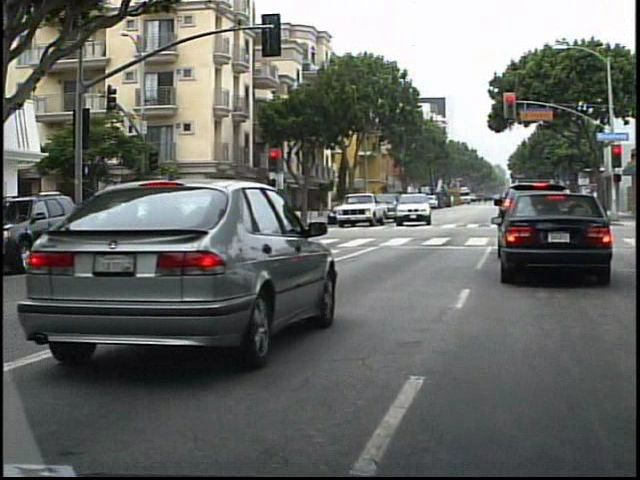person: (162, 191, 180, 237), (181, 193, 199, 234)
